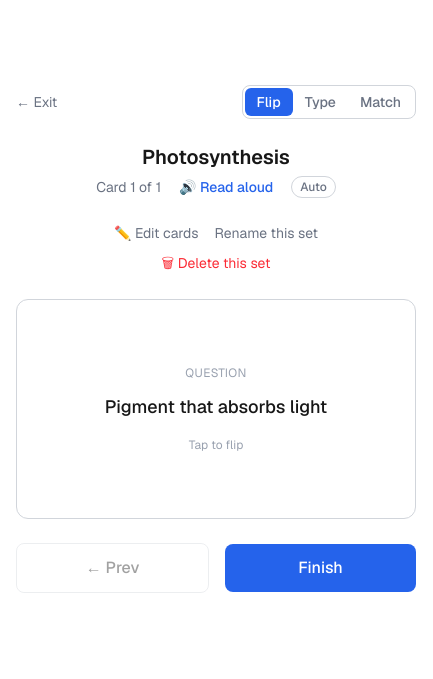
Scenario: where a saved card came from › says where a quote is from by the set's source, e.g. a Wikipedia article
Click the button "Question Pigment that absorbs light Tap to flip".
click(216, 409)  # box x1=16 y1=299 x2=416 y2=519
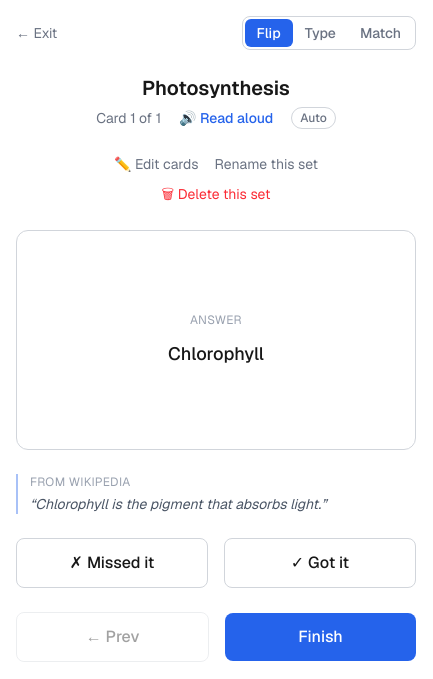
Expected: the text "From Wikipedia" is shown, x1=30 y1=474 x2=131 y2=490
